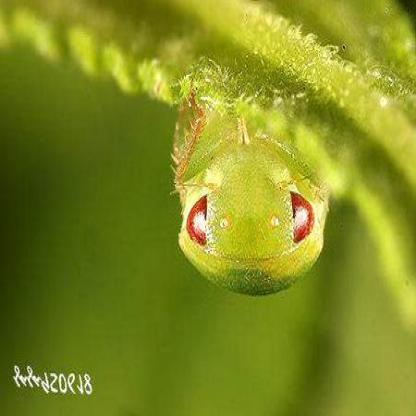green-leafhopper: (168, 100, 337, 299)
